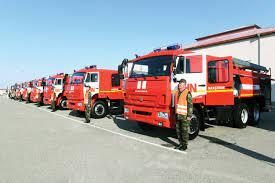Fire-engine: (119, 41, 275, 132), (64, 64, 118, 117)
